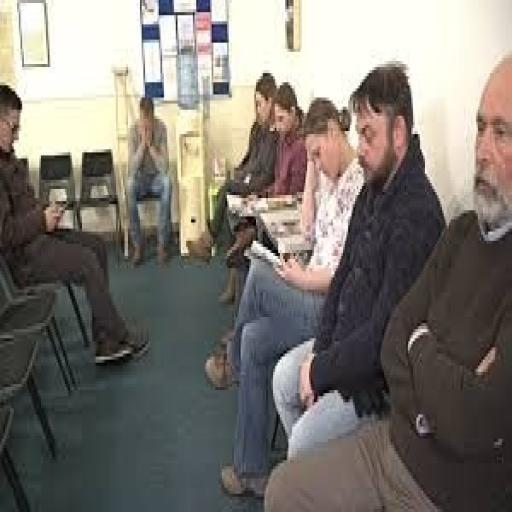sitting: (263, 52, 510, 509), (0, 79, 150, 369), (123, 92, 174, 265)
